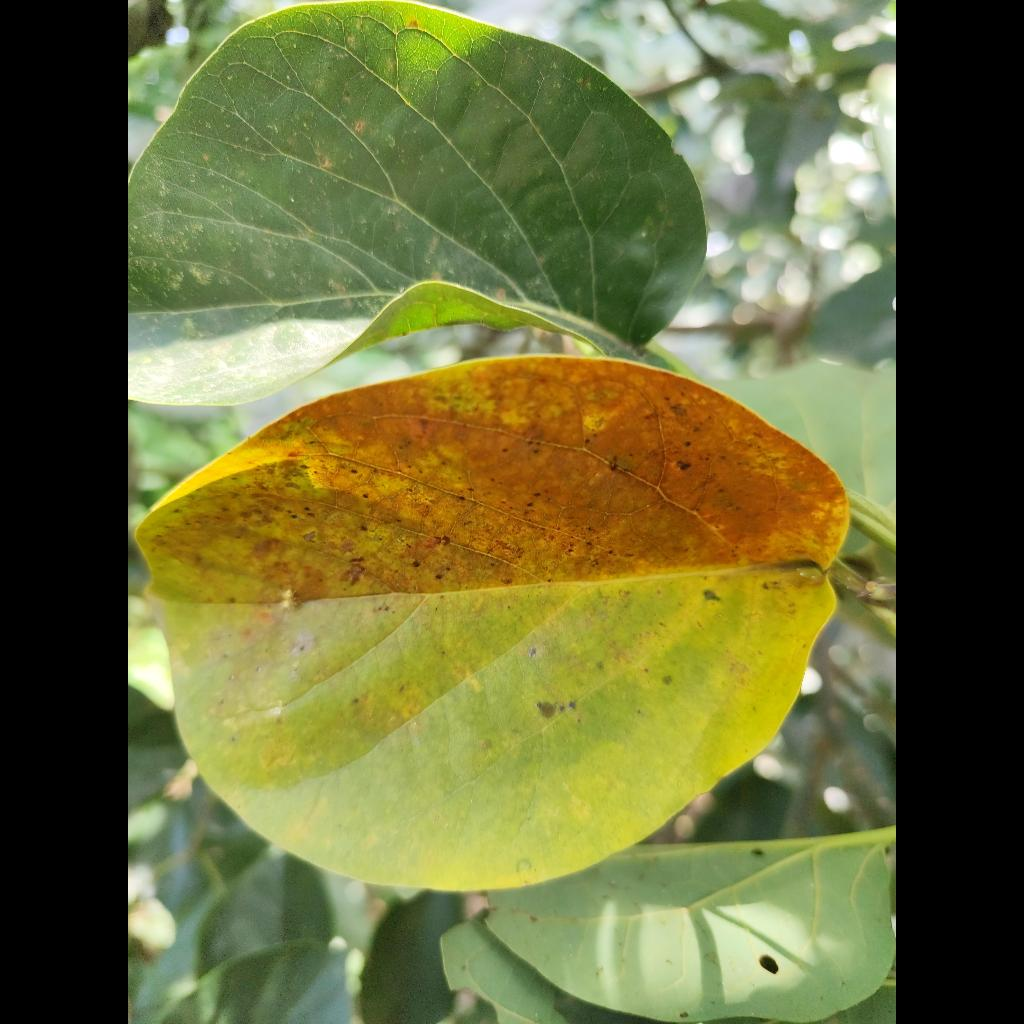deficiencia_nutricional: (140, 357, 848, 889)
